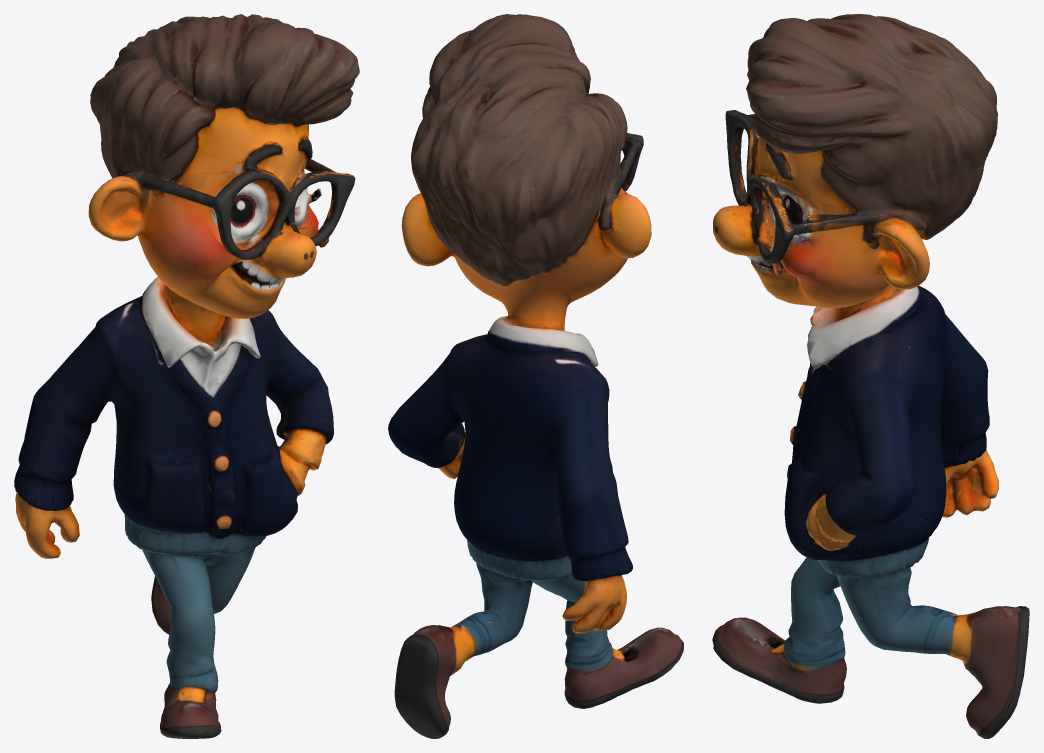
Rendered from ronan.glb.
3 renders of one model, left to right at view 1: azimuth 30°, elevation 25°; view 2: azimuth 150°, elevation 25°; view 3: azimuth 270°, elevation 25°, orthographic. The views are drawn at different scales.
Size of the model in its own units: 0.8024 by 1.92 by 0.7756.
1 material, 1 textured.
